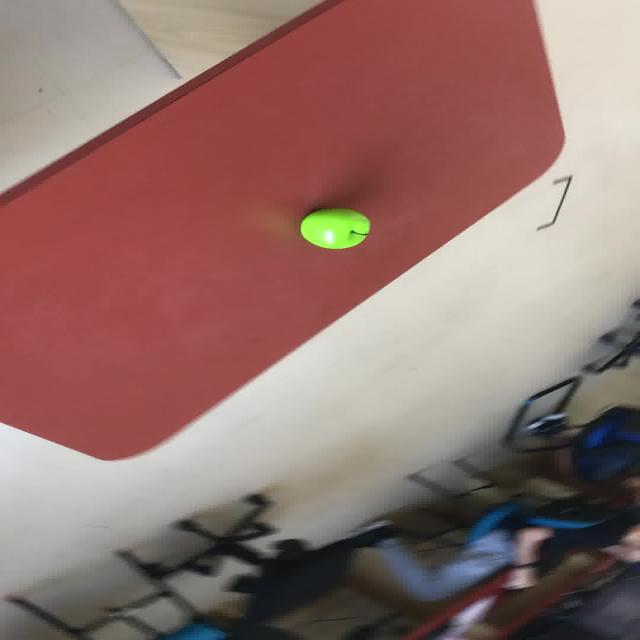apple: (298, 208, 370, 249)
